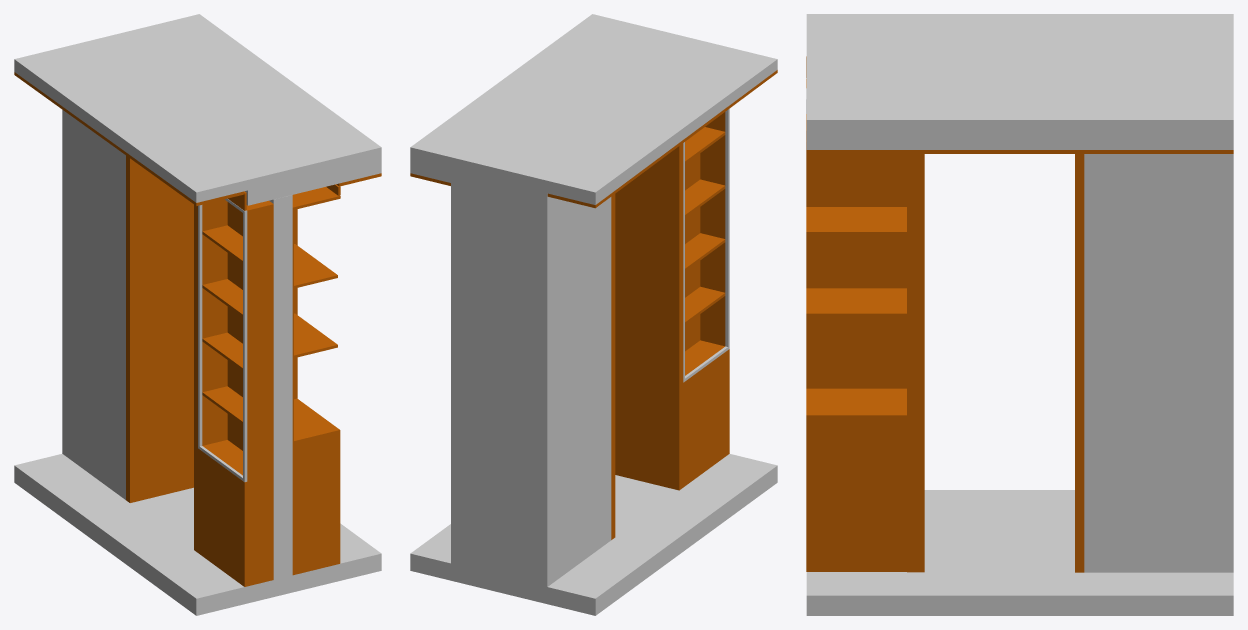
The model's file is портал.obj.
The picture shows the model from 3 angles, left to right: view 1: azimuth 30°, elevation 25°; view 2: azimuth 150°, elevation 25°; view 3: azimuth 270°, elevation 25°; orthographic projection. The views are drawn at different scales.
Size of the model in its own units: 1.35 by 2.95 by 2.3.
